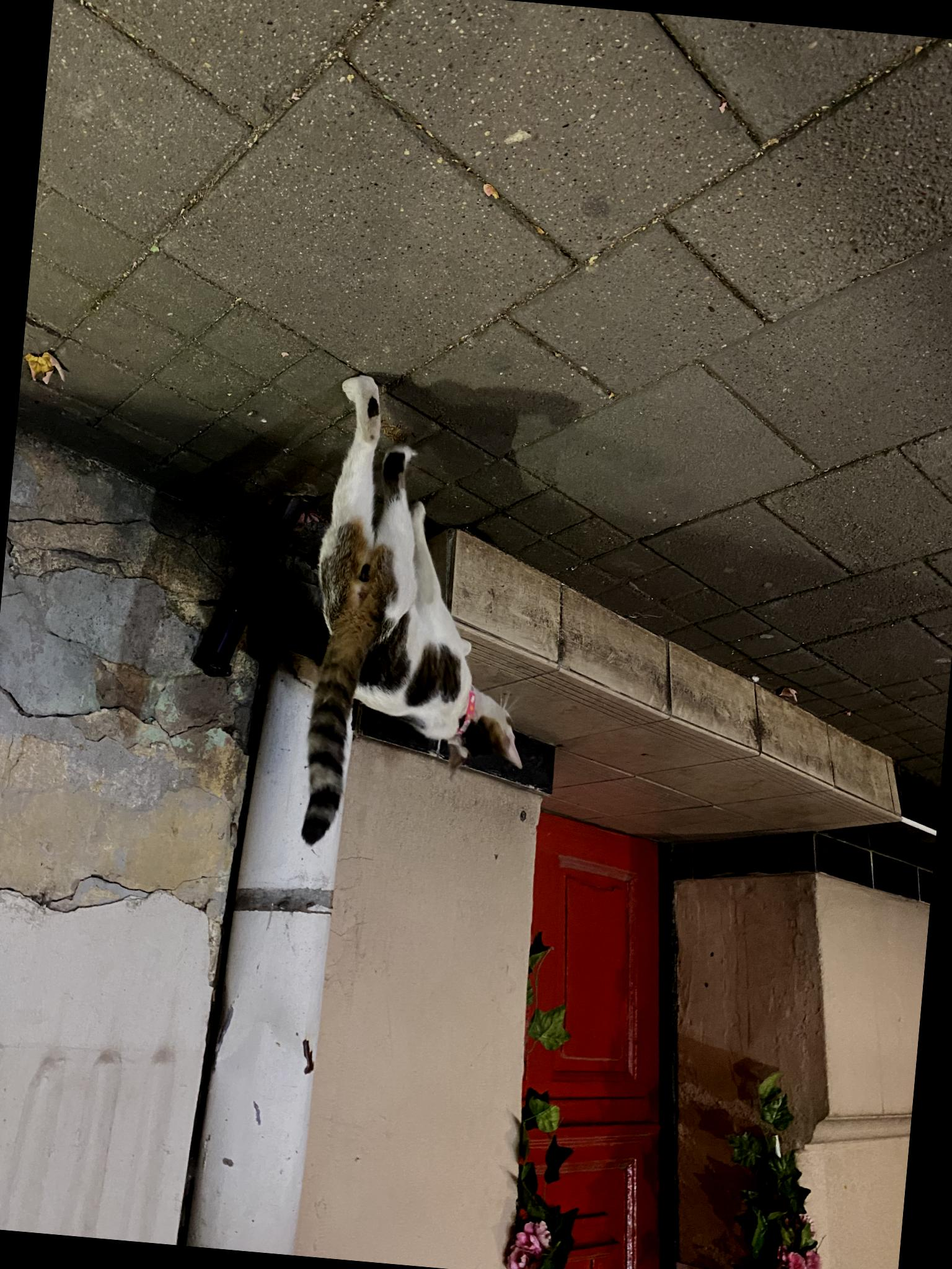macka: (294, 370, 557, 864)
